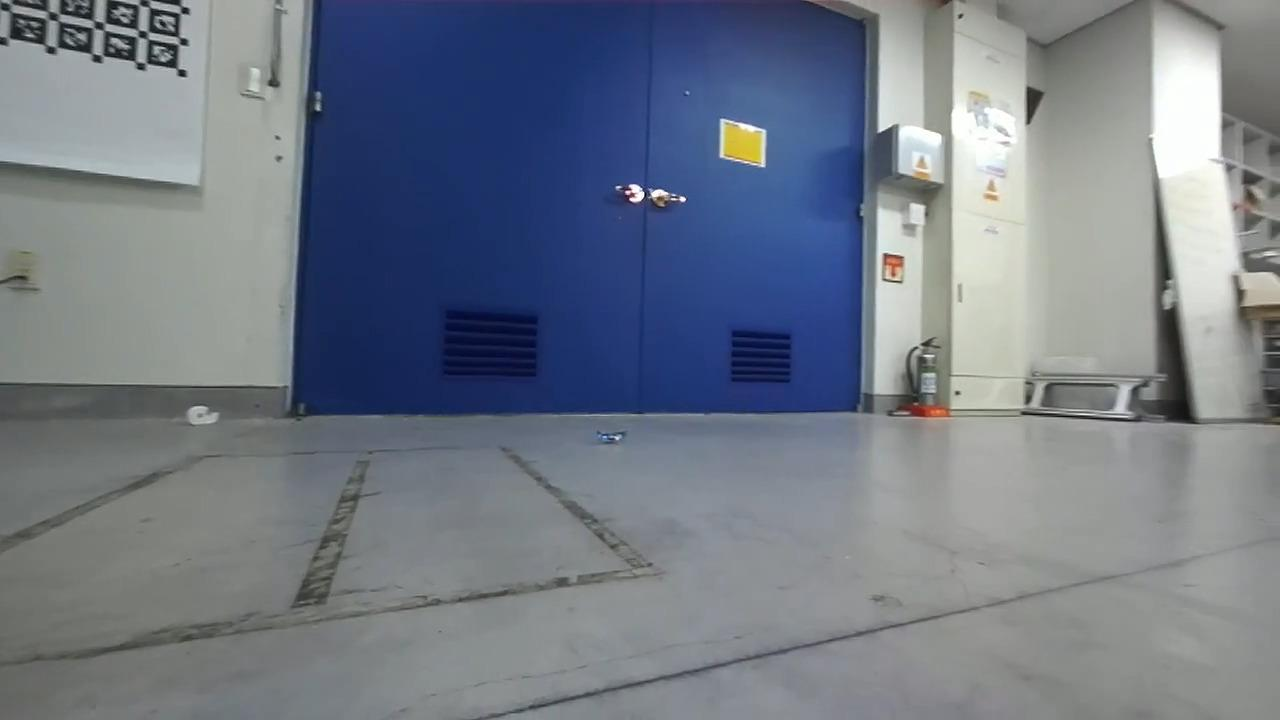crazyflie: (587, 423, 633, 450)
